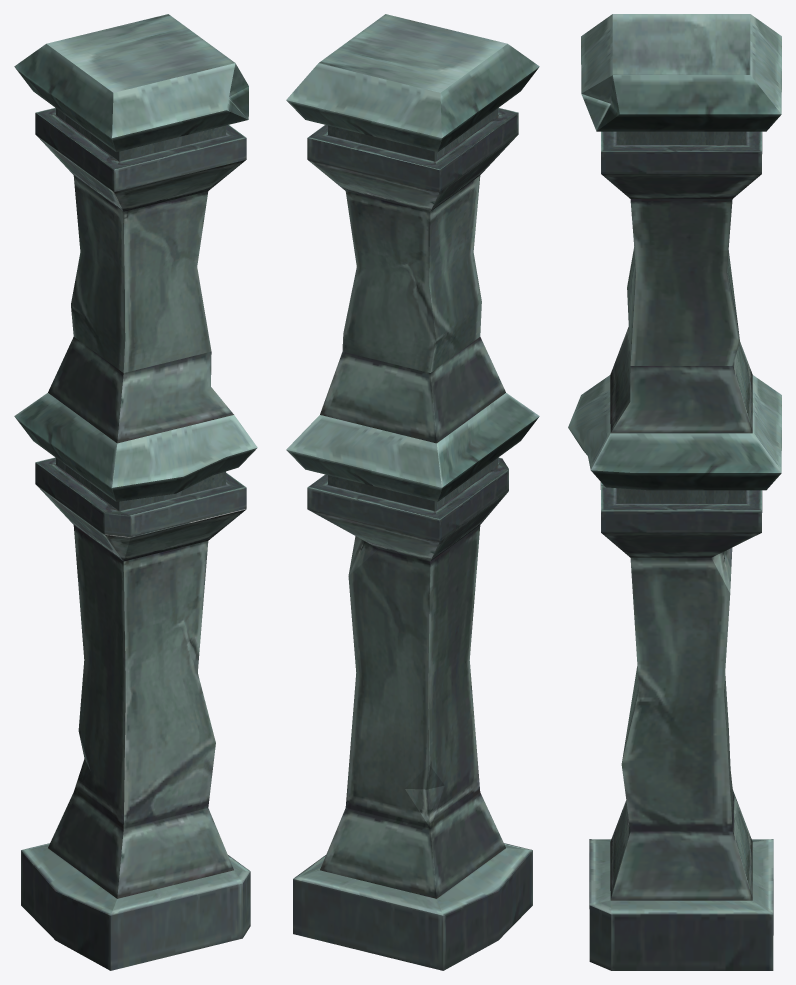
File: crypt_wall_convex_01.fbx
3 views of the same model, side by side, from view 1: azimuth 30°, elevation 25°; view 2: azimuth 150°, elevation 25°; view 3: azimuth 270°, elevation 25° (orthographic). The views are drawn at different scales.
Visible parts, largest first — view 1: crypt_wall_convex_01-0; view 2: crypt_wall_convex_01-0; view 3: crypt_wall_convex_01-0.
Boxes of the visible parts, bbox=[...] form: crypt_wall_convex_01-0: bbox=[14, 14, 257, 970]; crypt_wall_convex_01-0: bbox=[286, 14, 539, 970]; crypt_wall_convex_01-0: bbox=[568, 14, 781, 970].
Bounding box in the file's own units: 1.04 × 5.27 × 1.15.
